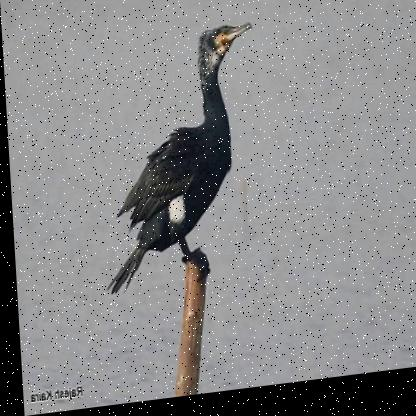Burung: (88, 28, 263, 301)
